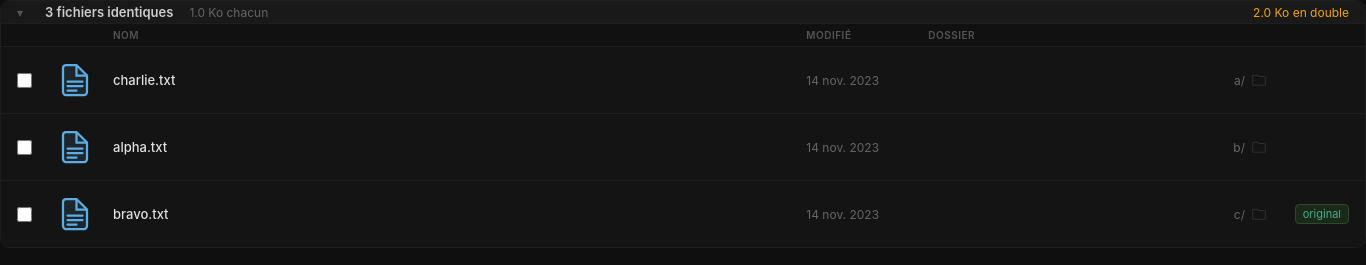
Scenario: K - tri des colonnes GroupCard › indicateur visible apres deuxieme clic sur Nom
Click the text with test id "sort-name".
click(126, 35)  # box [113, 29, 139, 41]
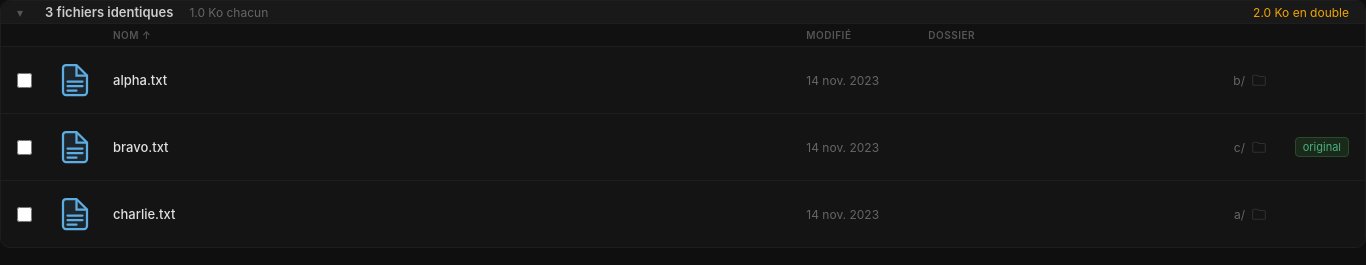
Click the element with test id "sort-name".
click(132, 35)  # box [113, 29, 151, 41]
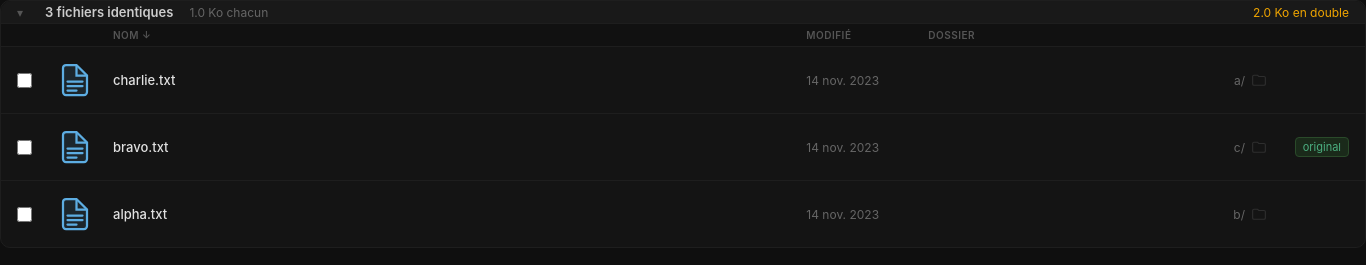
Expected: the text "↓" is shown, [142, 30, 151, 40]
